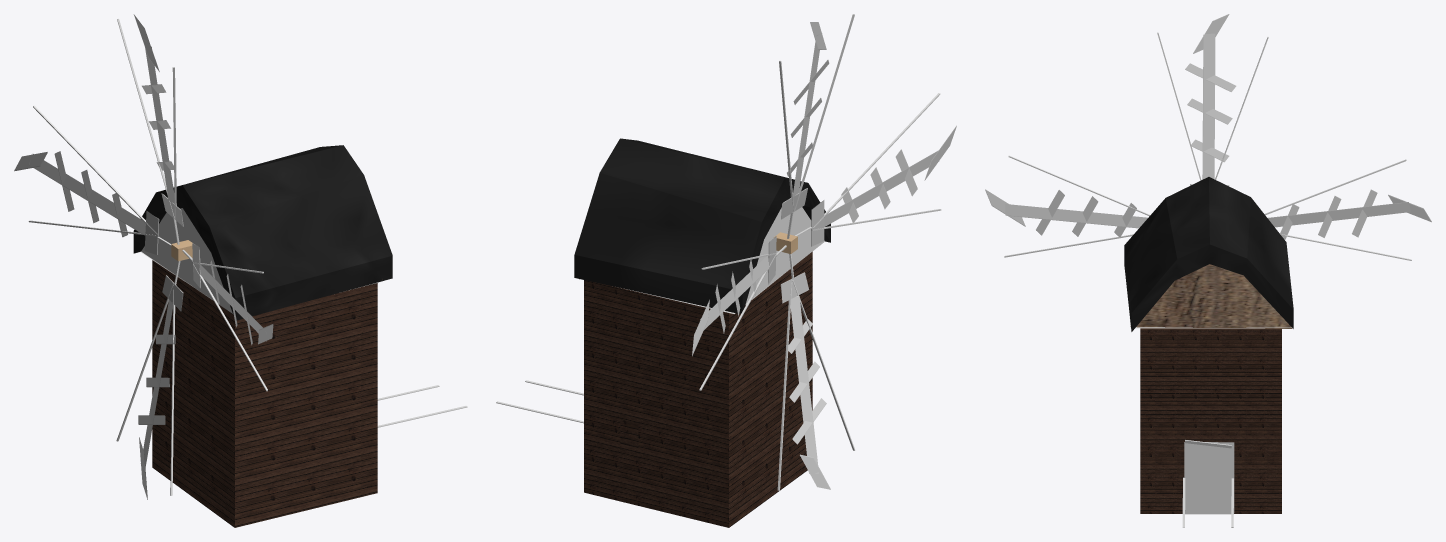
File: windmill.fbx
3 views of the same model, side by side, from view 1: azimuth 30°, elevation 25°; view 2: azimuth 150°, elevation 25°; view 3: azimuth 270°, elevation 25° (orthographic). The views are drawn at different scales.
Parts seen in each view (by area): view 1: House, Roof, Plane.001, Cube.042, Cube.060, Cube.003, Cube.051, Cube.001; view 2: House, Roof, Plane.001, Cube.003, Cube.051, Cube.042, Cube.060, Cube.002, Cube.059, Fune.007; view 3: House, Roof, Plane, Door, Cube.060, Cube.051, Cube.042.
Boxes of the visible parts, left/top/right/bottom form: House: left=152, top=260, right=377, bottom=527; Roof: left=133, top=145, right=392, bottom=320; Plane.001: left=141, top=208, right=232, bottom=313; Cube.042: left=29, top=154, right=145, bottom=235; Cube.060: left=143, top=39, right=174, bottom=203; Cube.003: left=140, top=299, right=173, bottom=472; Cube.051: left=199, top=263, right=266, bottom=341; Cube.001: left=170, top=285, right=175, bottom=495; House: left=584, top=251, right=812, bottom=527; Roof: left=574, top=138, right=830, bottom=314; Plane.001: left=746, top=207, right=824, bottom=303; Cube.003: left=790, top=296, right=818, bottom=473; Cube.051: left=824, top=148, right=942, bottom=226; Cube.042: left=700, top=256, right=768, bottom=333; Cube.060: left=792, top=33, right=822, bottom=196; Cube.002: left=777, top=280, right=792, bottom=490; Cube.059: left=794, top=14, right=854, bottom=210; Fune.007: left=811, top=200, right=824, bottom=246; House: left=1140, top=328, right=1281, bottom=513; Roof: left=1124, top=177, right=1293, bottom=331; Plane: left=1130, top=264, right=1292, bottom=328; Door: left=1184, top=442, right=1234, bottom=514; Cube.060: left=1202, top=33, right=1215, bottom=179; Cube.051: left=1005, top=204, right=1147, bottom=228; Cube.042: left=1267, top=202, right=1410, bottom=227.
Bounding box in the file's own units: 772 × 1159 × 1119.
